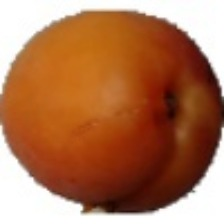apricot: (31, 27, 170, 172)
